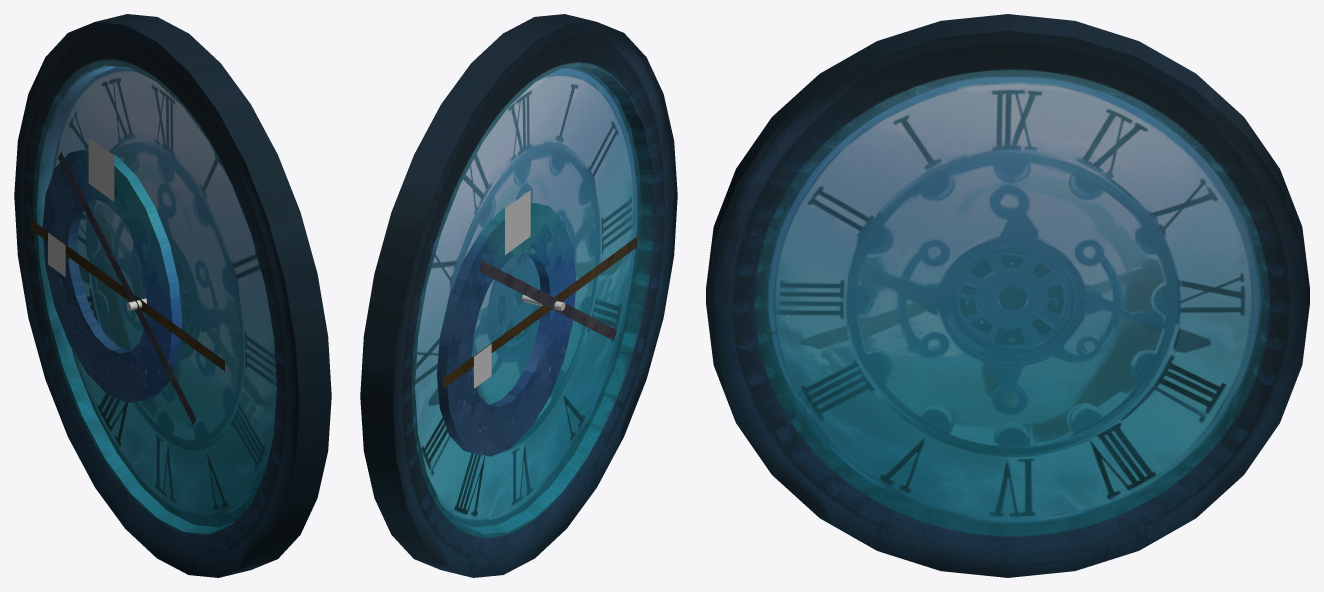
Rendered from clock.fbx.
The picture shows the model from 3 angles, left to right: view 1: azimuth 30°, elevation 25°; view 2: azimuth 150°, elevation 25°; view 3: azimuth 270°, elevation 25°; orthographic projection. The views are drawn at different scales.
Parts seen in each view (by area): view 1: Object_15; view 2: Object_15; view 3: Object_15.
Boxes of the visible parts, x1=… form: Object_15: x1=14, y1=14, x2=331, y2=577; Object_15: x1=360, y1=14, x2=677, y2=577; Object_15: x1=706, y1=14, x2=1309, y2=577.
Bounding box in the file's own units: 7.08 × 57.87 × 57.87.
